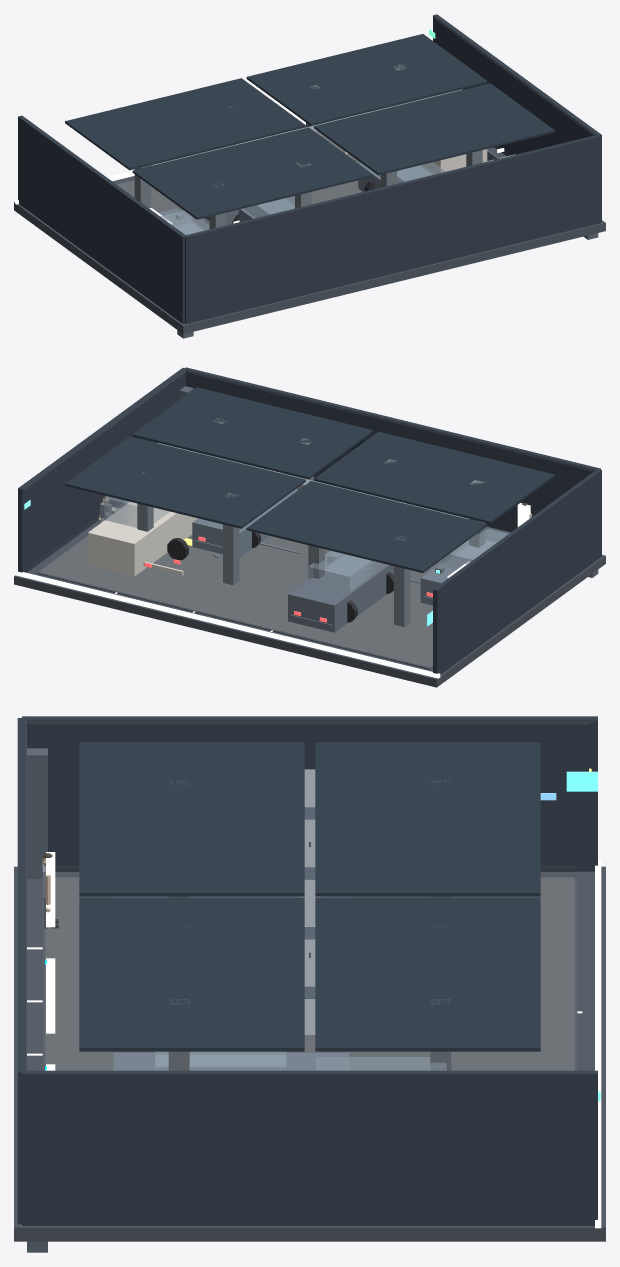
Rendered from floor-parking-p1.glb.
The picture shows the model from 3 angles, top to bottom: view 1: azimuth 30°, elevation 25°; view 2: azimuth 150°, elevation 25°; view 3: azimuth 270°, elevation 25°; orthographic projection. The views are drawn at different scales.
Parts seen in each view (by area): view 1: WallBack_parking, WallL_parking, Coffer_-1_-1_parking, Coffer_-1_1_parking, Coffer_1_-1_parking, Coffer_1_1_parking, Slab_parking, WallR_parking, ParkFloor, sedan_1_body, sedan_0_cabin, sedan_2_body (+5 smaller); view 2: ParkFloor, WallL_parking, Coffer_-1_1_parking, Coffer_1_1_parking, Coffer_1_-1_parking, Coffer_-1_-1_parking, WallR_parking, WallBack_parking, Slab_parking, suv_0_body, delivery_van_body, Reveal_parking (+14 smaller); view 3: WallR_parking, Coffer_-1_-1_parking, Coffer_-1_1_parking, Coffer_1_-1_parking, Coffer_1_1_parking, WallL_parking, Slab_parking, ParkFloor, WallBack_parking, sedan_2_body, VentTrunk, Post_parking_-1 (+8 smaller).
Part boxes in pixels (x1,y1,x2,y2): WallBack_parking: (184, 135, 600, 324); WallL_parking: (18, 115, 185, 323); Coffer_-1_-1_parking: (132, 127, 373, 219); Coffer_-1_1_parking: (65, 78, 305, 170); Coffer_1_-1_parking: (314, 83, 554, 175); Coffer_1_1_parking: (246, 34, 487, 125); Slab_parking: (14, 147, 605, 334); WallR_parking: (433, 14, 601, 221); ParkFloor: (117, 135, 362, 229); sedan_1_body: (238, 198, 294, 221); sedan_0_cabin: (160, 210, 209, 234); sedan_2_body: (358, 163, 434, 191); ParkFloor: (38, 534, 468, 667); WallL_parking: (433, 469, 601, 674); Coffer_-1_1_parking: (246, 481, 487, 572); Coffer_1_1_parking: (65, 436, 305, 528); Coffer_1_-1_parking: (132, 387, 373, 479); Coffer_-1_-1_parking: (314, 431, 554, 523); WallR_parking: (18, 368, 185, 572); WallBack_parking: (184, 367, 600, 532); Slab_parking: (14, 501, 605, 687); suv_0_body: (288, 554, 393, 632); delivery_van_body: (88, 502, 197, 576); Reveal_parking: (15, 570, 440, 678); WallR_parking: (22, 1070, 597, 1225); Coffer_-1_-1_parking: (79, 742, 304, 896); Coffer_-1_1_parking: (315, 742, 540, 896); Coffer_1_-1_parking: (79, 897, 304, 1051); Coffer_1_1_parking: (315, 897, 540, 1051); WallL_parking: (22, 716, 597, 871); Slab_parking: (14, 866, 605, 1241); ParkFloor: (45, 877, 574, 1070); WallBack_parking: (17, 718, 25, 1224); sedan_2_body: (113, 1053, 349, 1070); VentTrunk: (298, 769, 321, 1044); Post_parking_-1: (27, 748, 47, 878).
Bounding box in the file's own units: 16.32 × 3.8 × 11.3.
